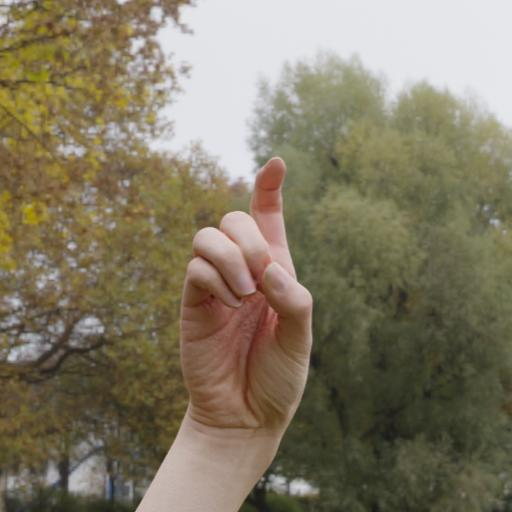X: (154, 146, 330, 448)
